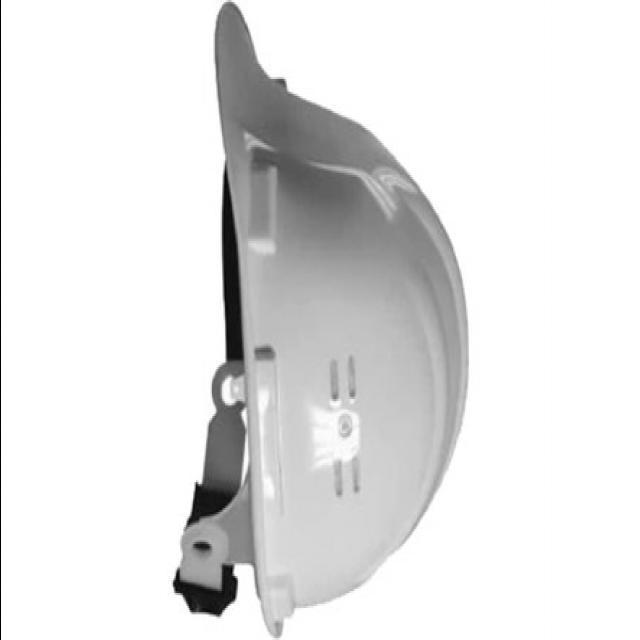safety_helmet: (170, 4, 468, 640)
